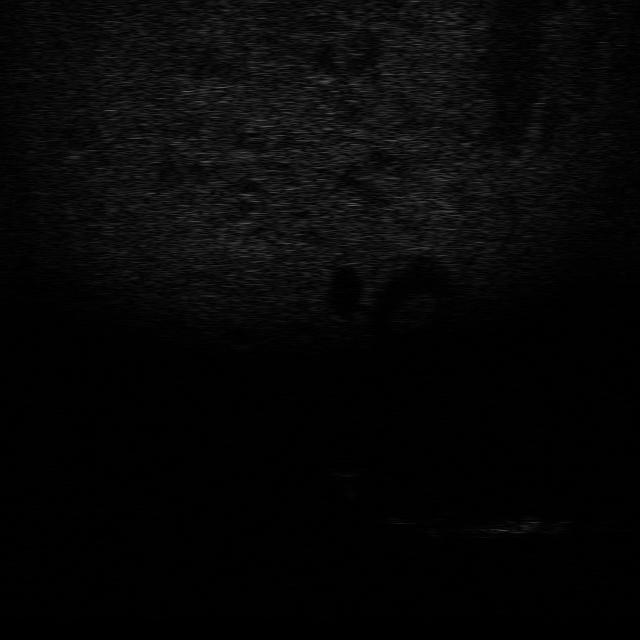ball: (325, 454, 369, 479)
metal bucket: (460, 509, 569, 537)
tyre: (374, 496, 451, 527)
